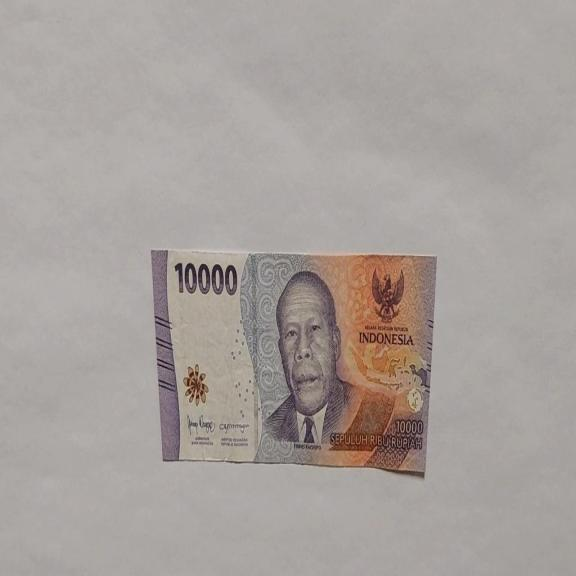Kertas: (152, 247, 438, 475), (173, 258, 238, 297)
